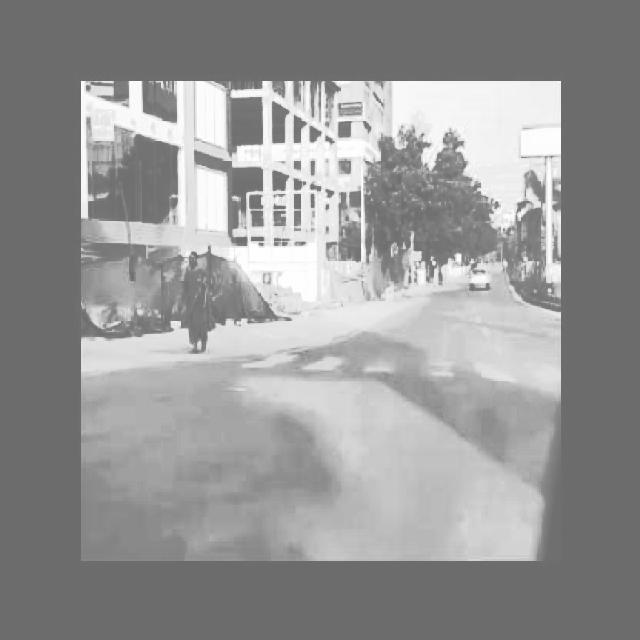Car: (462, 255, 494, 298)
